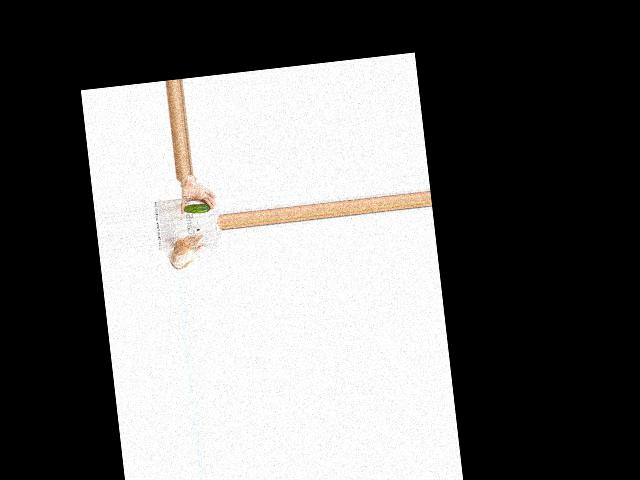cucumber: (183, 201, 211, 214)
